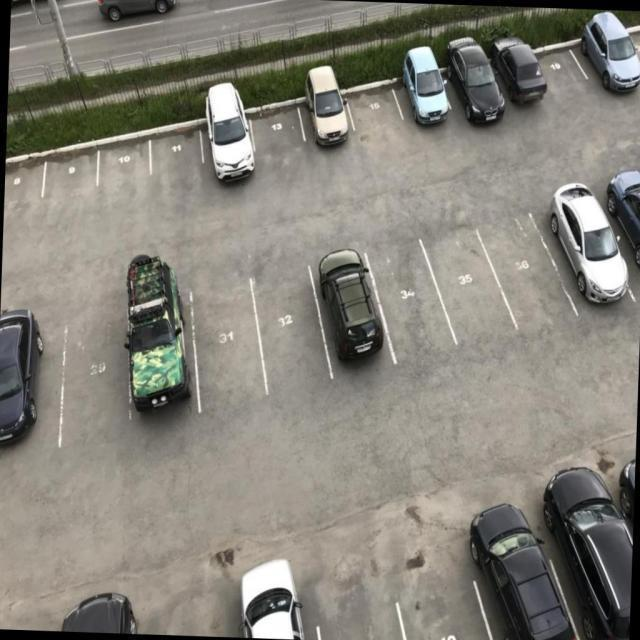empty: (430, 227, 512, 351), (485, 209, 565, 336), (189, 289, 270, 408), (368, 249, 448, 365), (254, 277, 330, 392), (53, 318, 129, 431), (404, 559, 489, 640), (328, 575, 411, 640), (345, 75, 404, 158), (246, 101, 306, 172), (38, 153, 104, 216), (530, 44, 592, 109), (147, 131, 207, 192), (95, 141, 150, 195), (3, 162, 39, 239), (627, 18, 640, 89)
occupied: (545, 196, 623, 331), (559, 503, 634, 640), (124, 291, 196, 431), (312, 249, 392, 374), (485, 530, 565, 640), (0, 331, 64, 461), (197, 109, 263, 195), (574, 24, 640, 108), (394, 55, 456, 141), (486, 38, 546, 124), (445, 51, 503, 139), (301, 83, 361, 163), (604, 179, 640, 301), (245, 607, 322, 640)
